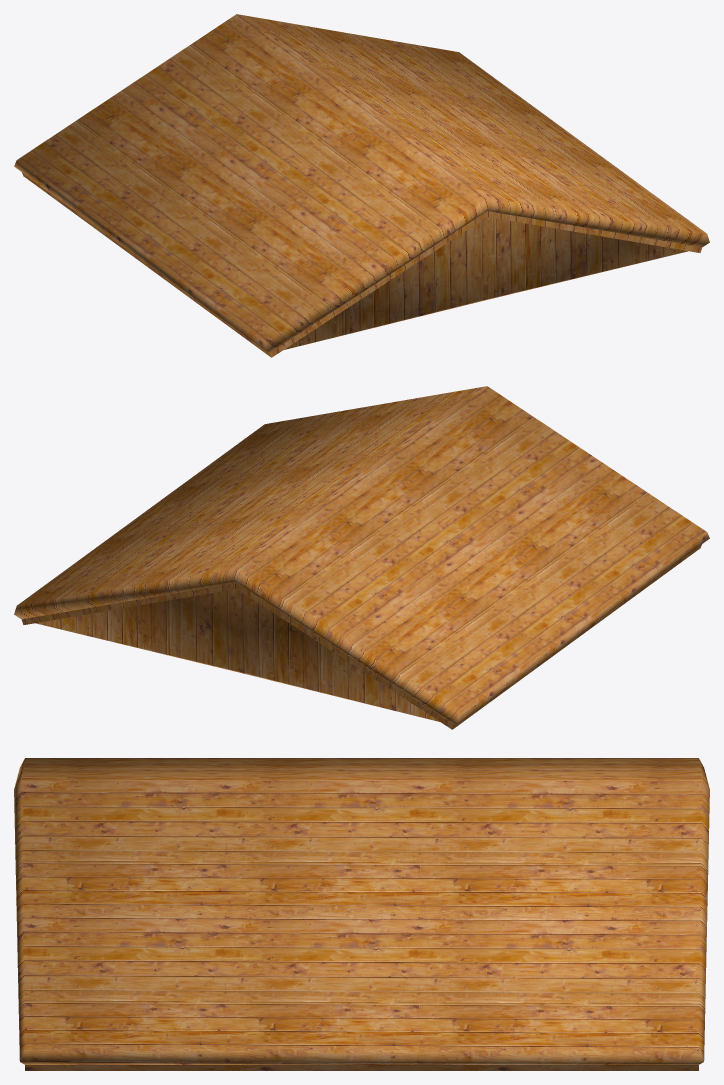
Rendered from rangerRoof.fbx.
3 renders of one model, top to bottom at view 1: azimuth 30°, elevation 25°; view 2: azimuth 150°, elevation 25°; view 3: azimuth 270°, elevation 25°, orthographic. The views are drawn at different scales.
Parts seen in each view (by area): view 1: RangerRoofSnow, RangerRoof; view 2: RangerRoofSnow, RangerRoof; view 3: RangerRoofSnow, RangerRoof.
Part boxes in pixels (x1,y1,x2,y2): RangerRoofSnow: (14, 14, 709, 352); RangerRoof: (22, 172, 702, 357); RangerRoofSnow: (14, 386, 709, 724); RangerRoof: (21, 544, 701, 729); RangerRoofSnow: (14, 758, 709, 1064); RangerRoof: (25, 1065, 698, 1070).
Bounding box in the file's own units: 15.92 × 3.73 × 15.91.
